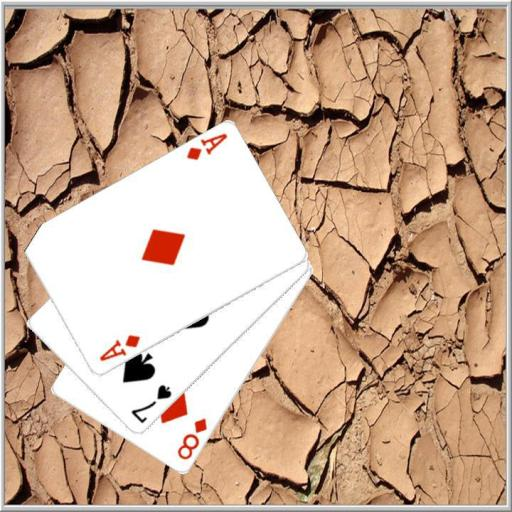7S: (128, 381, 174, 426)
8D: (174, 415, 209, 462)
AD: (96, 332, 142, 364), (183, 130, 229, 162)
